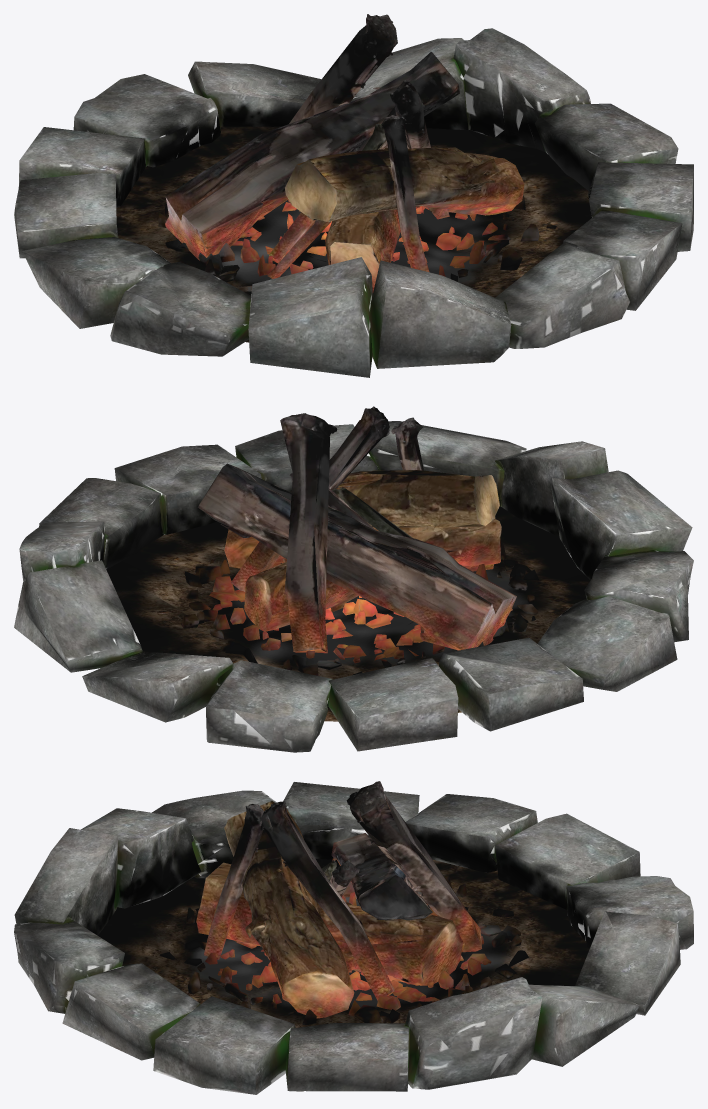
File: campfire-0-far.glb
3 views of the same model, one above another, from view 1: azimuth 30°, elevation 25°; view 2: azimuth 150°, elevation 25°; view 3: azimuth 270°, elevation 25° (orthographic). The views are drawn at different scales.
Visible parts, largest first — view 1: Stones_Stones_0, Logs_Logs_0, Ground_Ground_0, Ground Pieces_Ground Pieces_0; view 2: Stones_Stones_0, Logs_Logs_0, Ground_Ground_0, Ground Pieces_Ground Pieces_0; view 3: Stones_Stones_0, Logs_Logs_0, Ground_Ground_0, Ground Pieces_Ground Pieces_0.
Part boxes in pixels (bbox=[...]): Stones_Stones_0: bbox=[14, 28, 693, 377]; Logs_Logs_0: bbox=[165, 14, 524, 292]; Ground_Ground_0: bbox=[116, 126, 591, 342]; Ground Pieces_Ground Pieces_0: bbox=[158, 146, 556, 291]; Stones_Stones_0: bbox=[14, 421, 693, 752]; Logs_Logs_0: bbox=[197, 406, 516, 653]; Ground_Ground_0: bbox=[106, 506, 590, 721]; Ground Pieces_Ground Pieces_0: bbox=[181, 540, 539, 675]; Stones_Stones_0: bbox=[14, 782, 693, 1094]; Logs_Logs_0: bbox=[196, 781, 481, 1018]; Ground_Ground_0: bbox=[98, 859, 589, 1027]; Ground Pieces_Ground Pieces_0: bbox=[159, 865, 528, 1025].
Bounding box in the file's own units: 1.65 × 0.5442 × 1.69.
4 materials, 4 textured.
